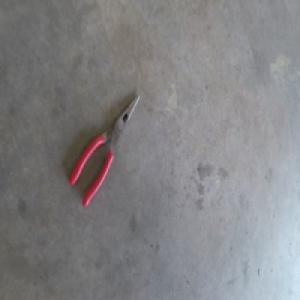Pliers: (66, 89, 138, 204)
